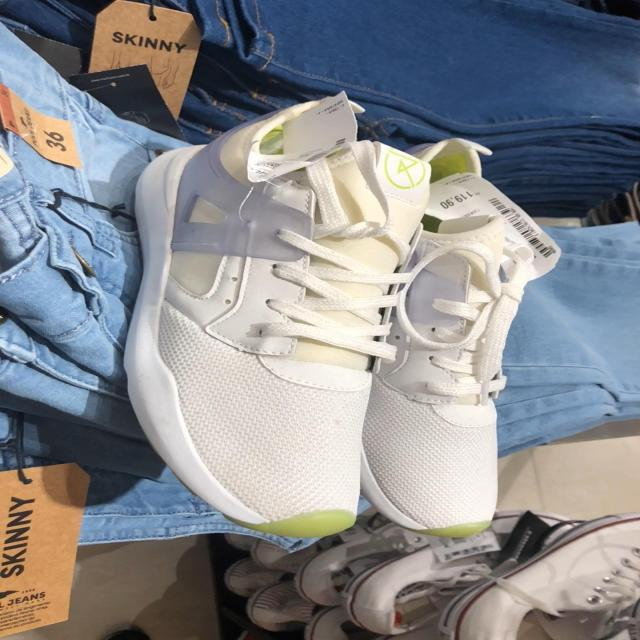shoe: (144, 95, 431, 544), (398, 215, 527, 492)
